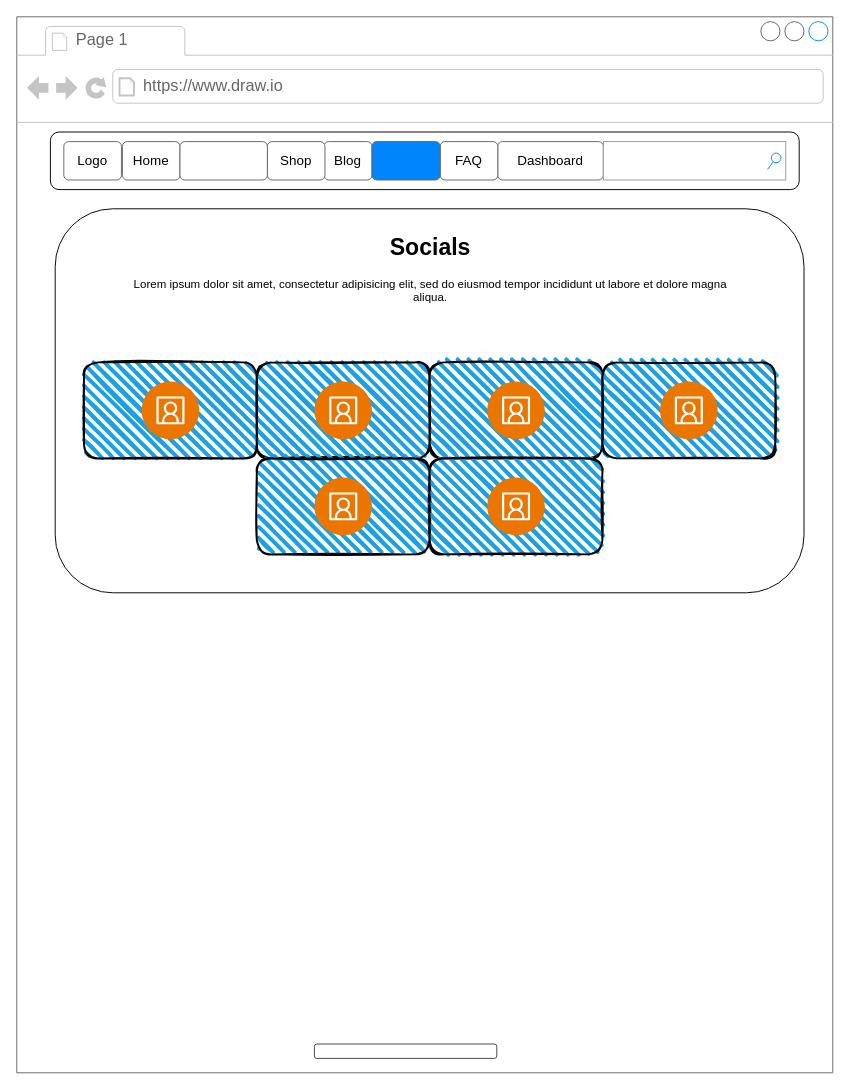
Image size: 850x1090. Some labels were removed from this diagram. The centre of each missing label's shape, as x and y in pixels:
About Me: [223,160]
Footer: [405,1050]
Search: [694,160]
Socials: [405,160]
